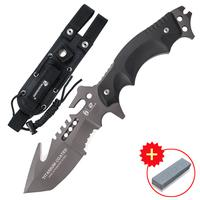knife: (22, 2, 184, 196)
